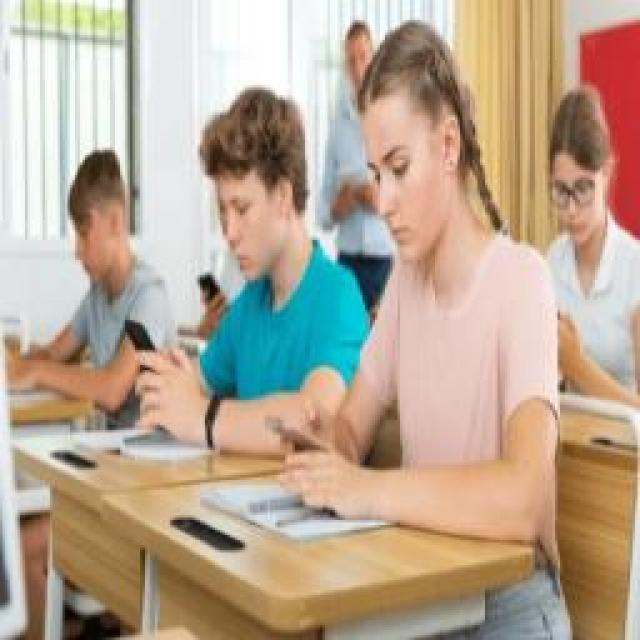phone: (268, 22, 558, 530), (125, 90, 370, 468)
